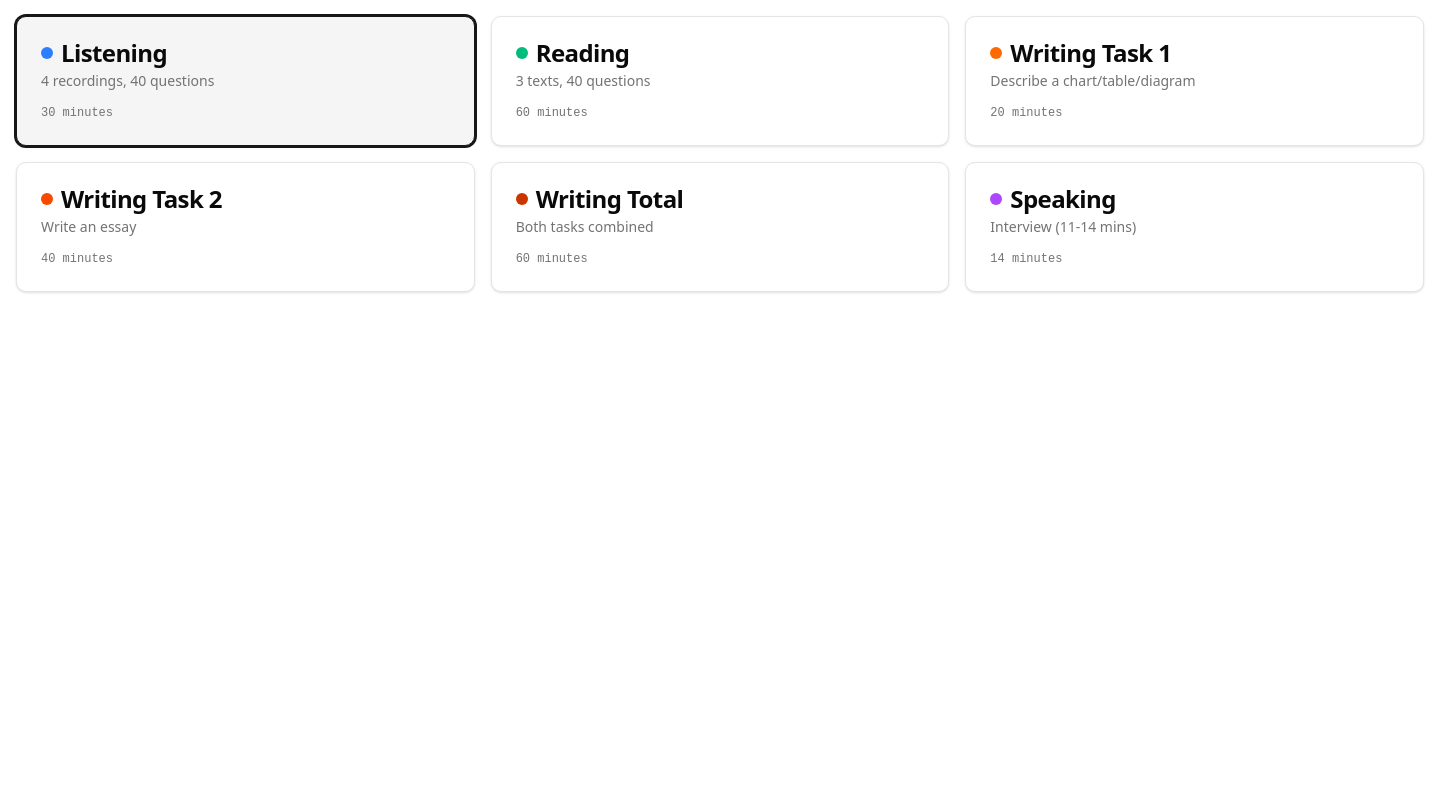
SectionSelector › shows confirmation dialog when timer is running
Click the heading "Reading". click: (573, 52)
box: [516,36,630,69]
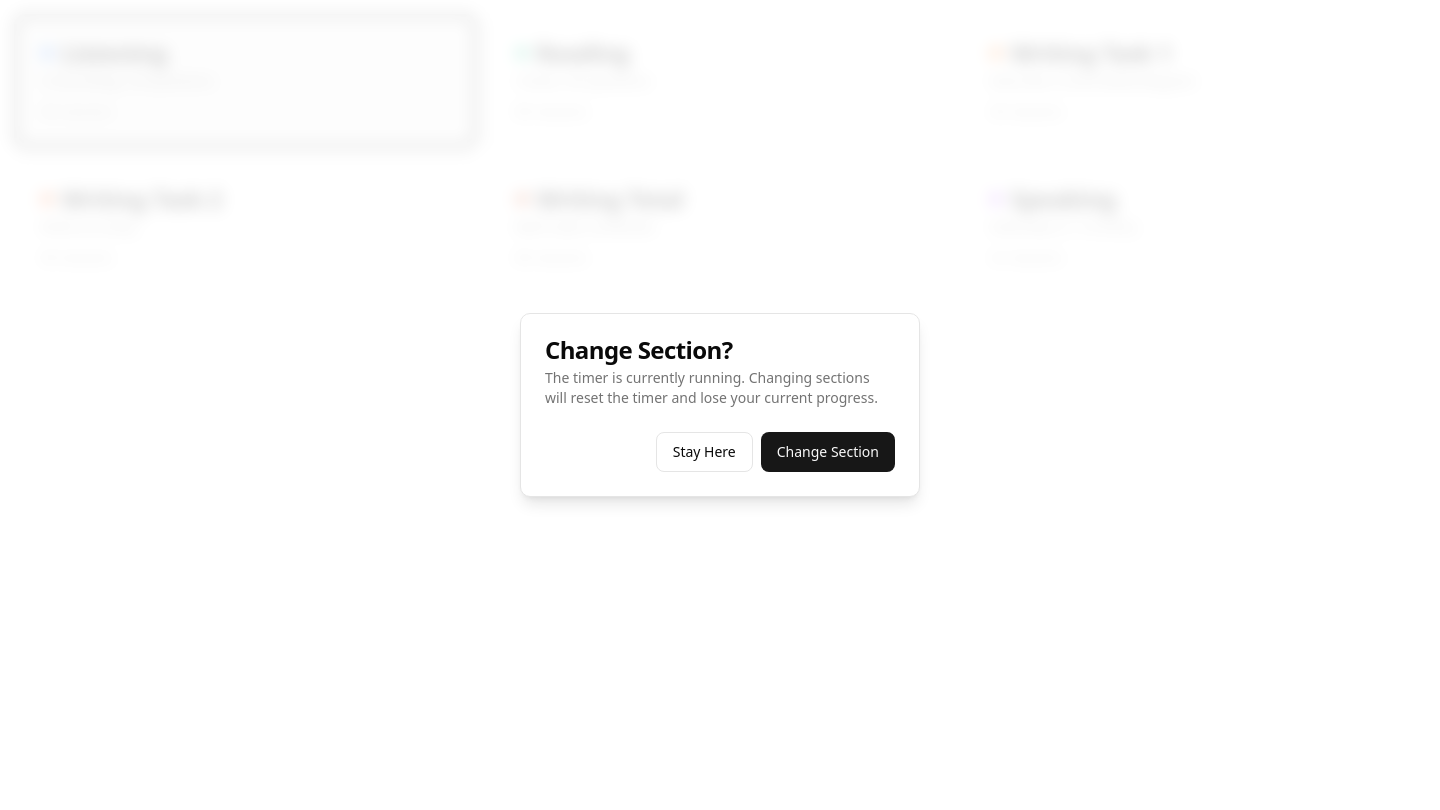
Expected: the heading "Change Section?" is shown, [545,333,732,366]
Expected: the text "The timer is currently running. Changing sections will reset the timer and lose your current progress." is shown, [545,368,878,407]
